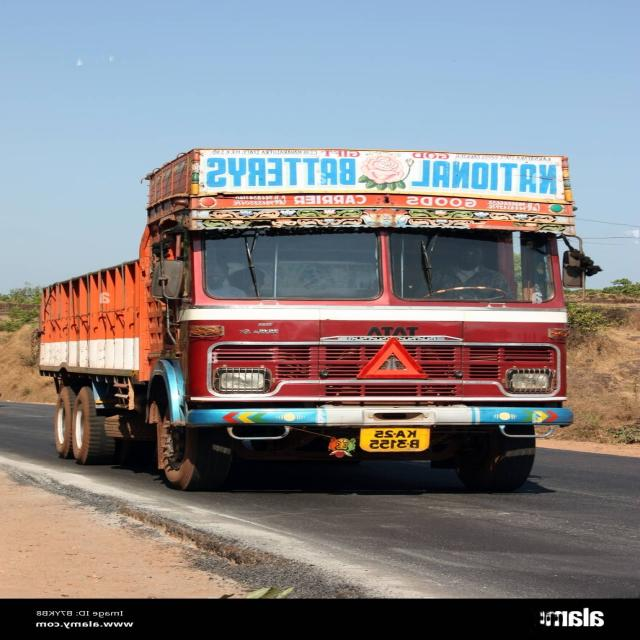truck: (37, 149, 589, 491)
